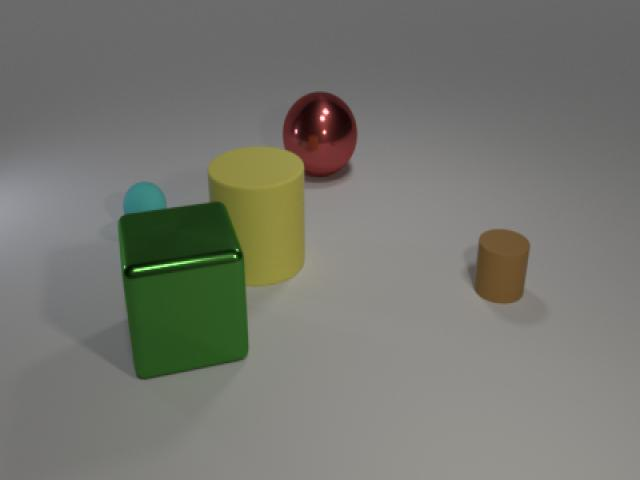cylinder: (200, 140, 311, 293), (470, 220, 537, 314)
round ball: (279, 86, 361, 183), (116, 178, 172, 222)
